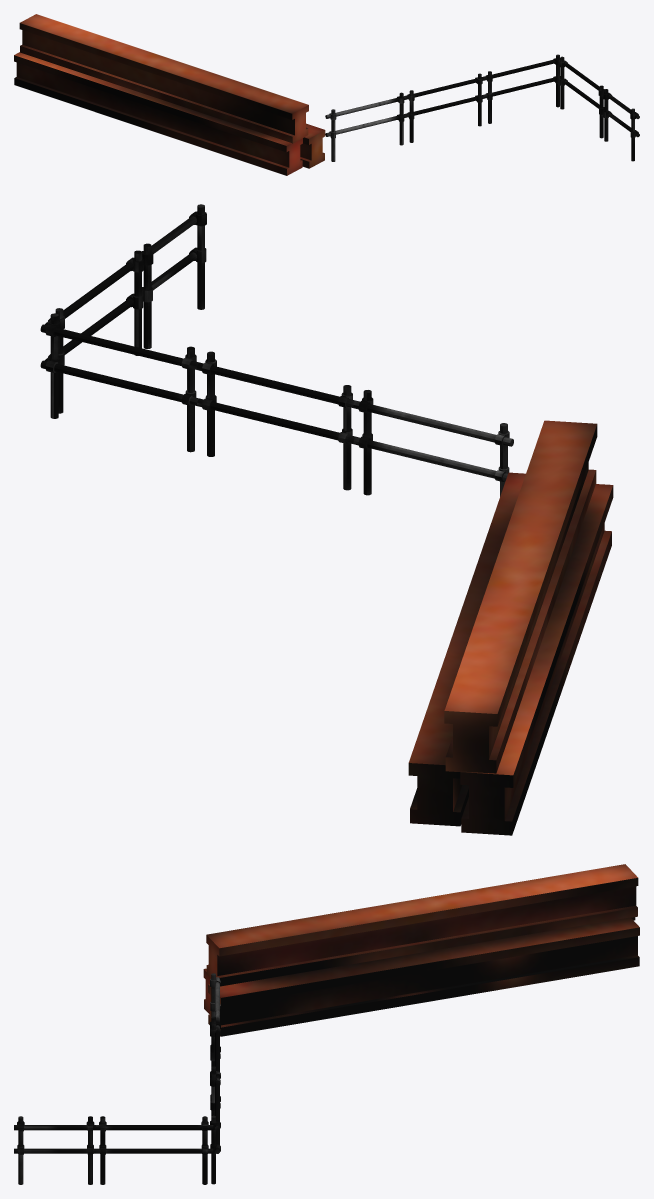
The model's file is bill2-object2.obj.
3 renders of one model, top to bottom at view 1: azimuth 30°, elevation 25°; view 2: azimuth 150°, elevation 25°; view 3: azimuth 270°, elevation 25°, orthographic. The views are drawn at different scales.
Bounding box in the file's own units: 14.92 × 2.19 × 15.86.
1 material, 1 textured.
